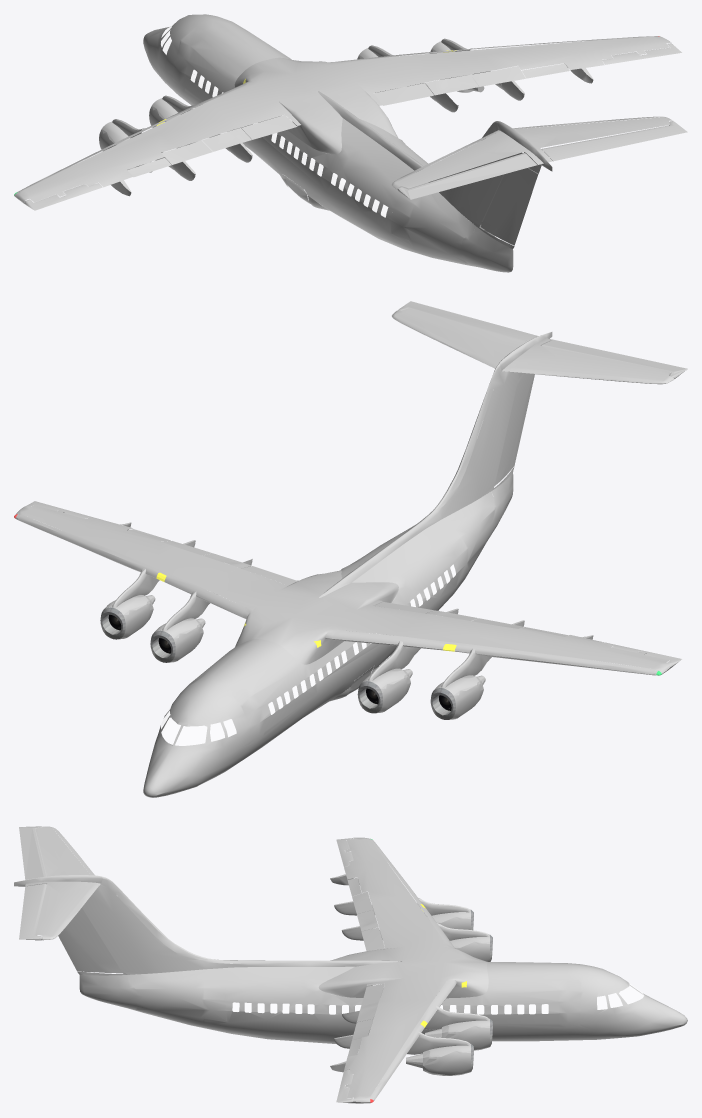
3 renders of one model, top to bottom at view 1: azimuth 30°, elevation 25°; view 2: azimuth 150°, elevation 25°; view 3: azimuth 270°, elevation 25°, orthographic. The views are drawn at different scales.
Parts seen in each view (by area): view 1: Wings, fuselage, HStabs, Flaps_Right, Flaps_Left, Rudder, Elevator_Left, Elevator_Right, SpeedBrakes_TailLeft, Endines, Windows_fuselage, Door1 (+5 smaller); view 2: fuselage, Wings, HStabs, Endines, Slats_Left, Slats_Right, EngineCups, Rudder, Windows_cockpit, Elevator_Left, Elevator_Right, Windows_fuselage (+4 smaller); view 3: fuselage, Wings, HStabs, Endines, Rudder, Flaps_Left, SpeedBrakes_TailRight, Flaps_Right, Windows_fuselage, Slats_Right, Elevator_Right, Door4 (+4 smaller).
Part boxes in pixels (x1,y1,x2,y2): Wings: (14, 36, 671, 203); fuselage: (143, 14, 552, 265); HStabs: (392, 116, 672, 189); Flaps_Right: (374, 63, 569, 112); Flaps_Left: (127, 115, 297, 180); Rudder: (480, 168, 538, 245); Elevator_Left: (397, 153, 537, 199); Elevator_Right: (541, 121, 687, 161); SpeedBrakes_TailLeft: (461, 225, 514, 272); Endines: (99, 41, 484, 172); Windows_fuselage: (190, 70, 388, 217); Door1: (173, 31, 203, 91); fuselage: (143, 332, 552, 797); Wings: (15, 505, 672, 687); HStabs: (392, 308, 673, 384); Endines: (103, 595, 485, 719); Slats_Left: (332, 630, 655, 675); Slats_Right: (17, 514, 246, 617); EngineCups: (100, 607, 455, 719); Rudder: (494, 373, 534, 485); Windows_cockpit: (161, 705, 236, 745); Elevator_Left: (541, 339, 687, 378); Elevator_Right: (398, 301, 537, 341); Windows_fuselage: (268, 564, 455, 714); fuselage: (14, 875, 687, 1043); Wings: (318, 837, 489, 1103); HStabs: (25, 826, 100, 940); Endines: (406, 909, 489, 1075); Rudder: (58, 908, 122, 973); Flaps_Left: (334, 877, 384, 951); SpeedBrakes_TailRight: (77, 971, 137, 1010); Flaps_Right: (334, 983, 384, 1056); Windows_fuselage: (232, 1002, 548, 1014); Slats_Right: (370, 981, 455, 1099); Elevator_Right: (19, 884, 46, 940); Door4: (204, 973, 225, 1022).
Size of the model in its own units: 26.17 by 7.72 by 28.31.
30 materials, 24 textured.
